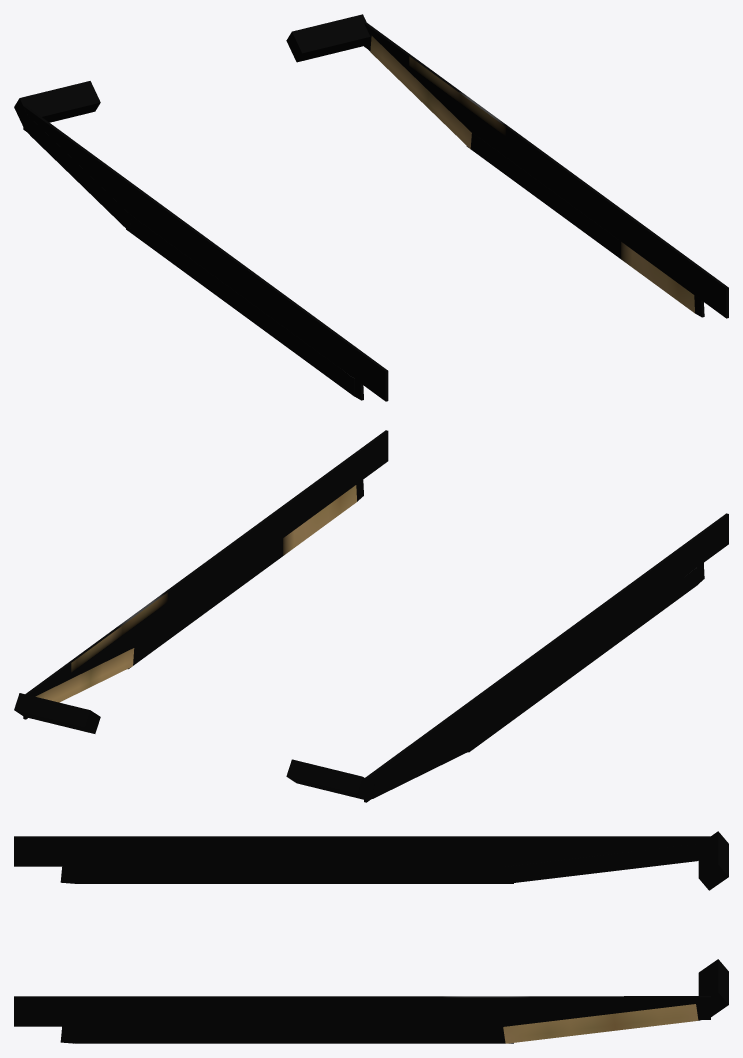
The model's file is bort_t72.obj.
3 views of the same model, one above another, from view 1: azimuth 30°, elevation 25°; view 2: azimuth 150°, elevation 25°; view 3: azimuth 270°, elevation 25° (orthographic). The views are drawn at different scales.
Visible parts, largest first — view 1: cubeddd.013; view 2: cubeddd.013; view 3: cubeddd.013.
Boxes of the visible parts, bbox=[...] form: cubeddd.013: bbox=[14, 14, 728, 401]; cubeddd.013: bbox=[14, 430, 728, 802]; cubeddd.013: bbox=[14, 831, 728, 1043].
Bounding box in the file's own units: 3.92 × 0.5854 × 7.36.
